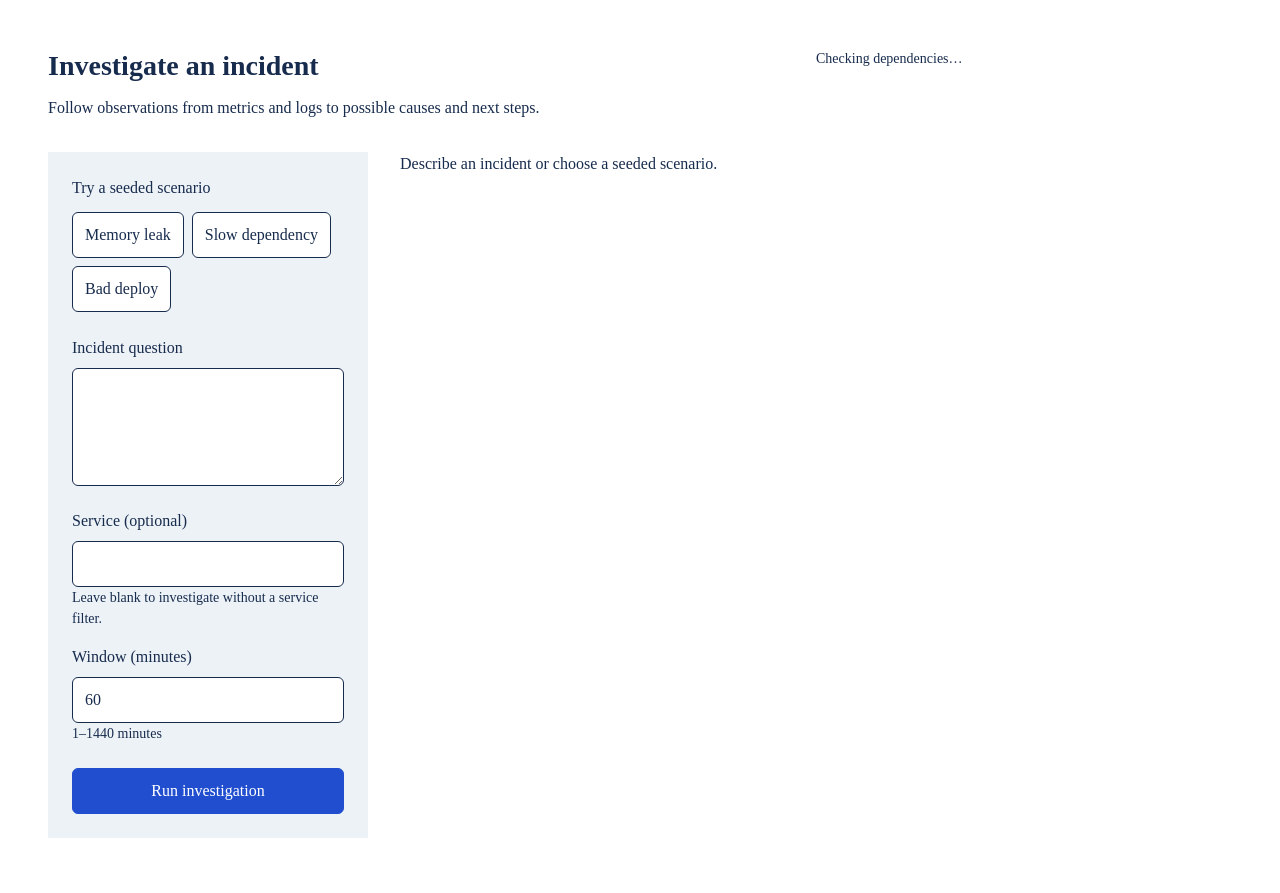
errors preserve every input and only an explicit retry sends another request
Step 1. Click the button "Slow dependency" → click(261, 235), box [192,212,331,258]
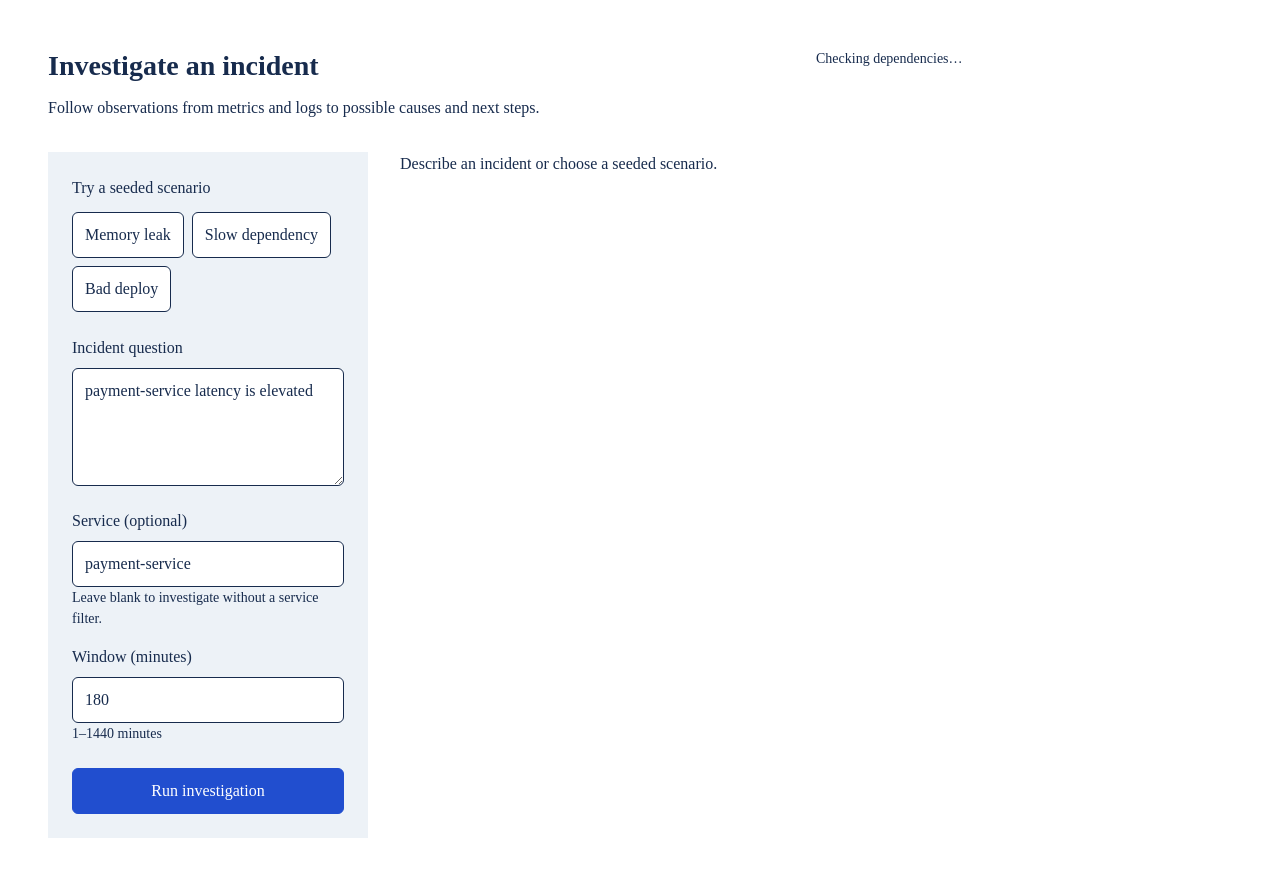
Step 2. Click the button "Run investigation" → click(208, 791), box [72,768,344,814]
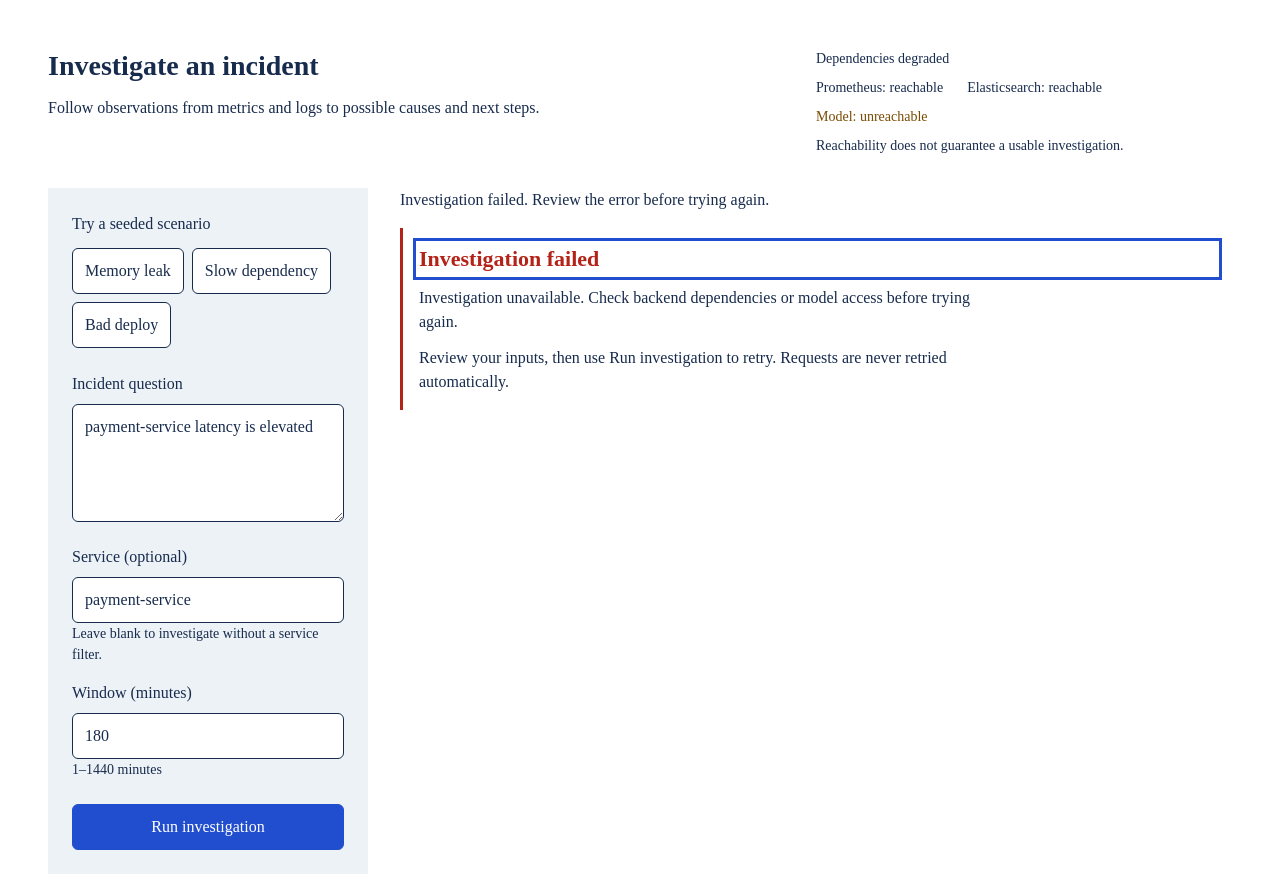
Expected: the text box labelled "Incident question" holds "payment-service latency is elevated", [72,404,344,522]
Expected: the field labelled "Service (optional)" holds "payment-service", [72,577,344,623]
Expected: the 3rd message shows "unavailable", [419,289,970,330]
Step 3. Click the button "Run investigation" → click(208, 827), box [72,804,344,850]
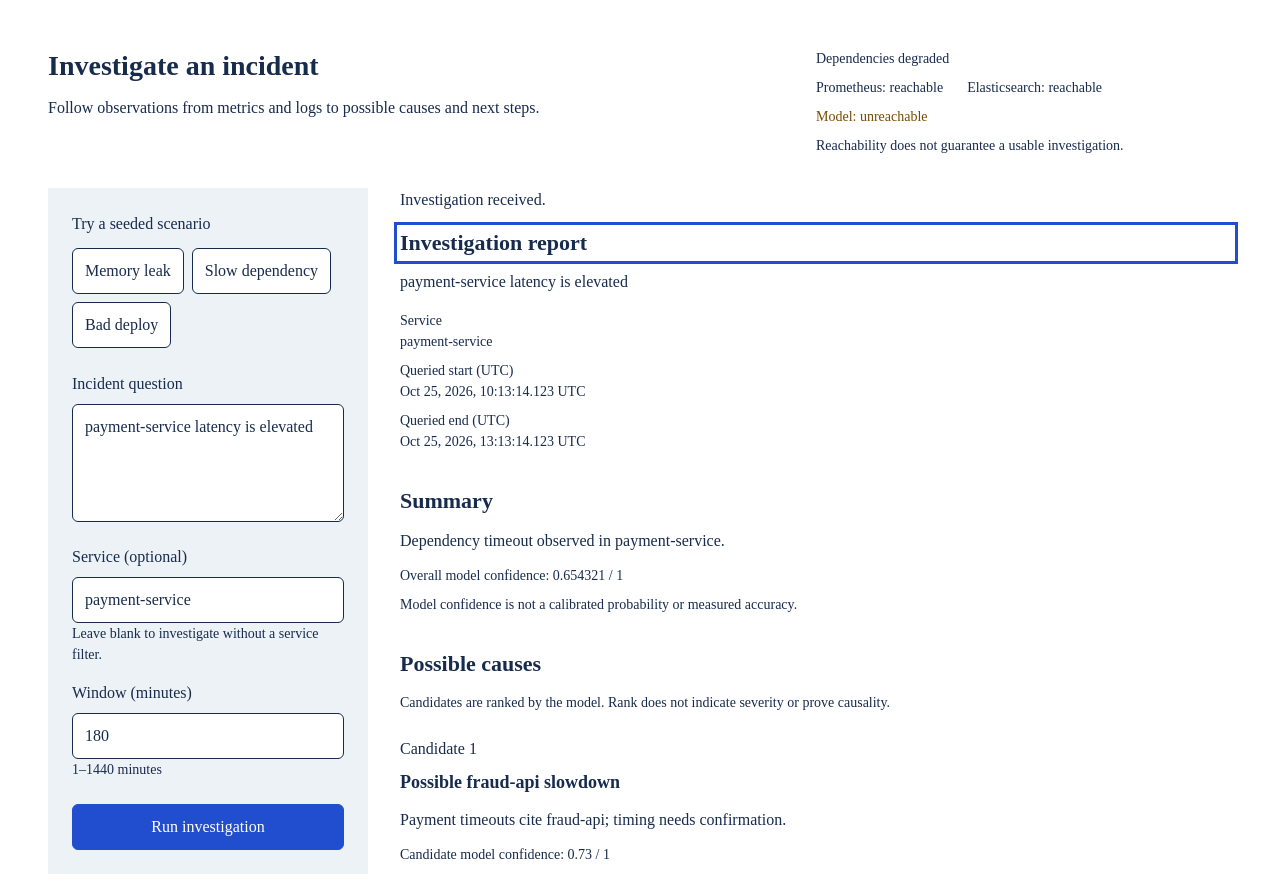
Expected: the heading "Investigation report" is shown, [400,230,587,255]
